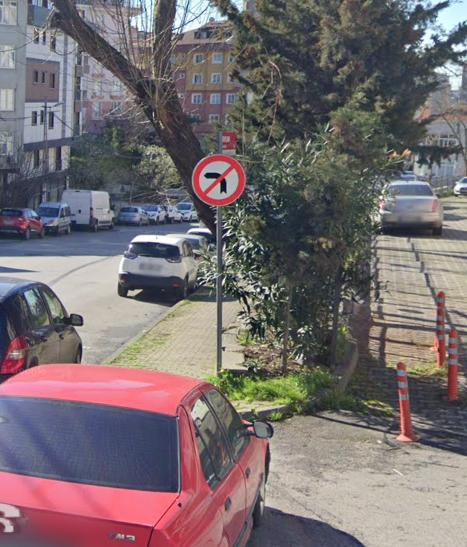turnleft: (194, 154, 246, 205)
